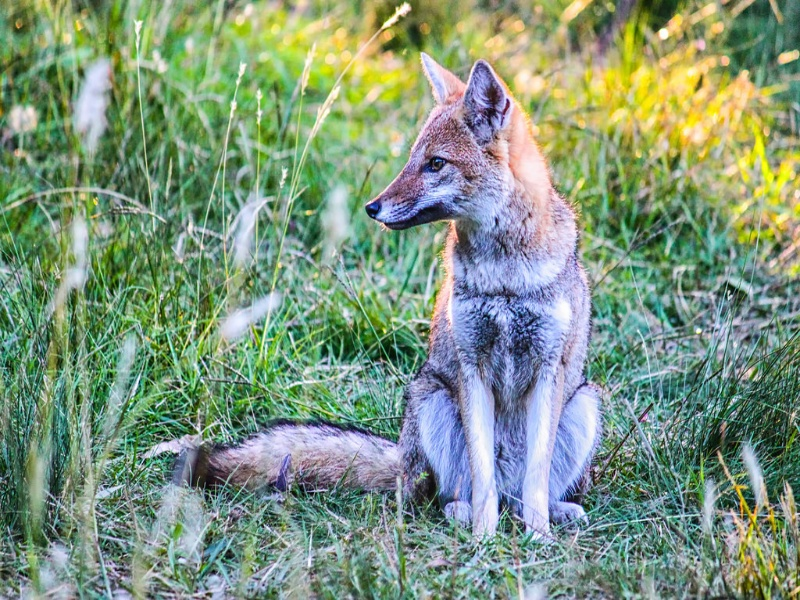fox: (182, 49, 609, 548)
